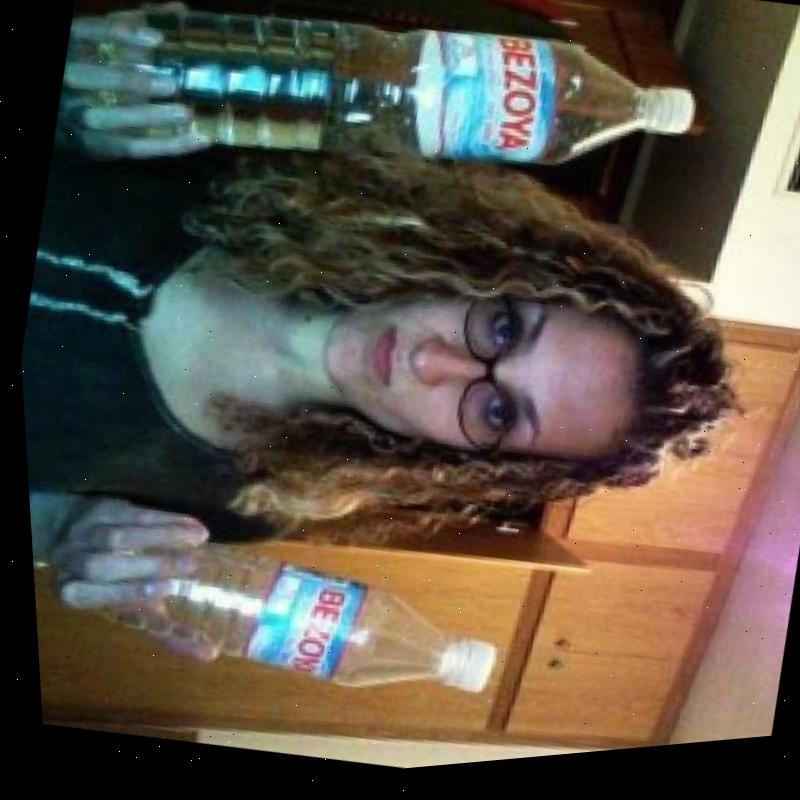botella: (52, 0, 710, 269), (63, 505, 505, 744)
